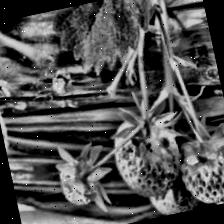Gray Mold: (0, 66, 20, 151)
